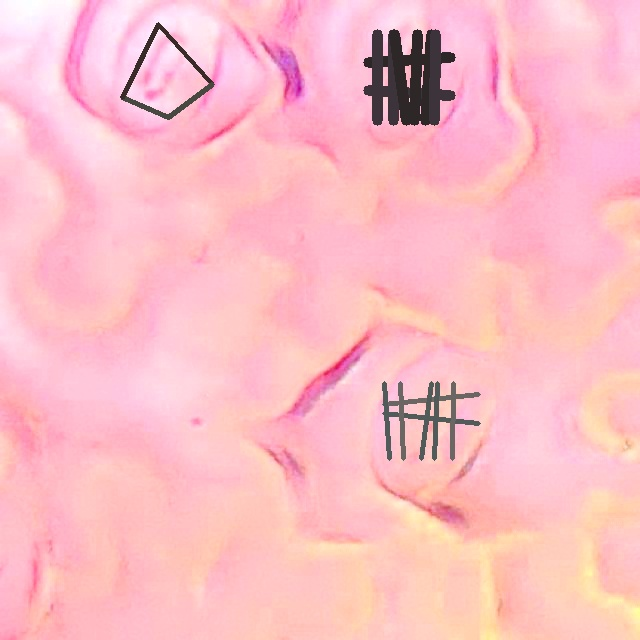open: (120, 22, 214, 119), (364, 30, 454, 125), (382, 381, 480, 460)
